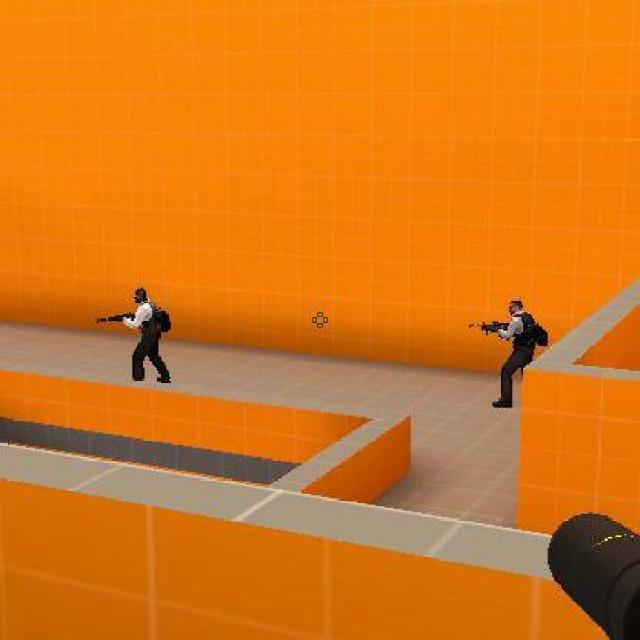T: (494, 298, 542, 409), (123, 288, 172, 384)
T_HEAD: (506, 298, 525, 317), (132, 286, 148, 305)
